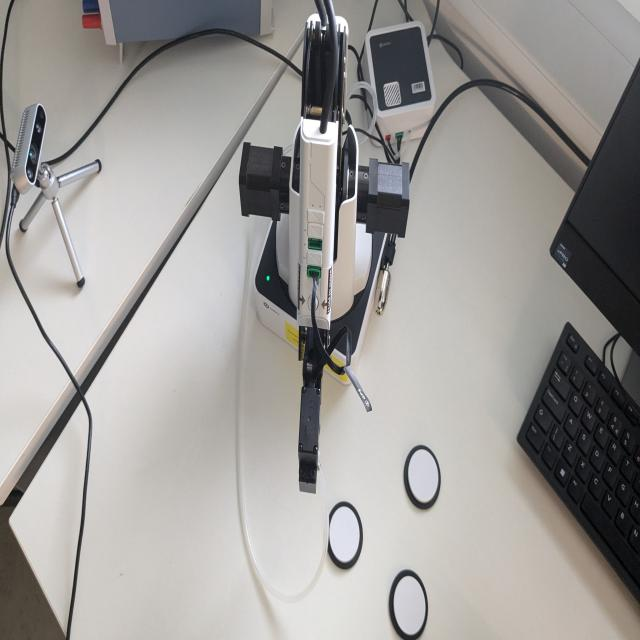Robot-end-effector-HF8z: (295, 381, 323, 499)
